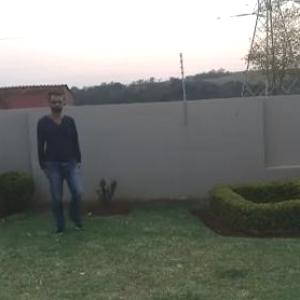follow: (38, 98, 90, 216)
